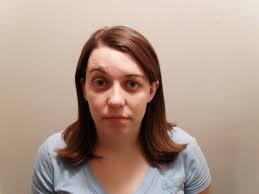normalMouth: (96, 112, 135, 124)
strokeEyeMid: (87, 65, 146, 94)
